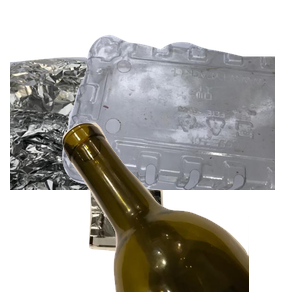glass: (60, 120, 300, 300)
metal: (10, 47, 250, 227)
plastic: (60, 32, 300, 212)
trash: (86, 158, 242, 300)
